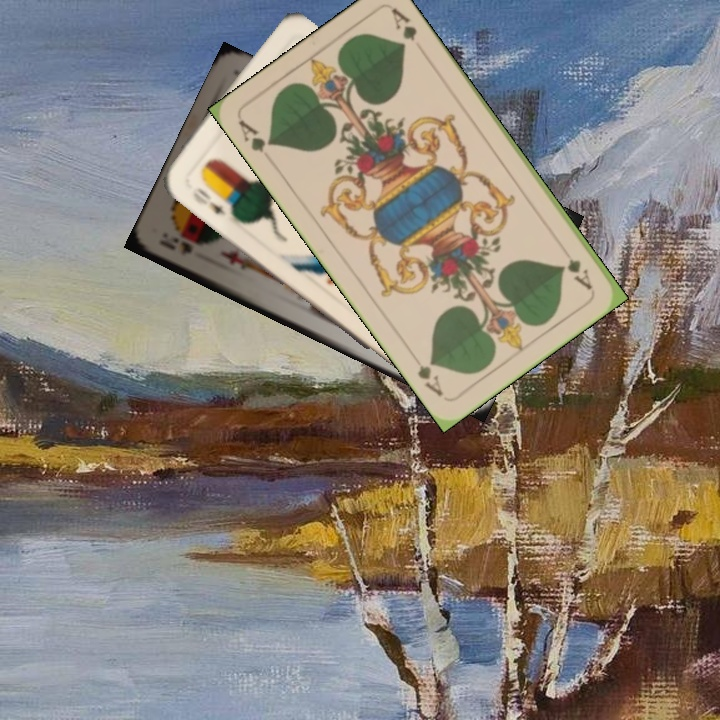EO: (188, 183, 229, 218)
GA: (234, 115, 277, 156), (563, 254, 596, 293)
SK: (154, 233, 195, 258)
